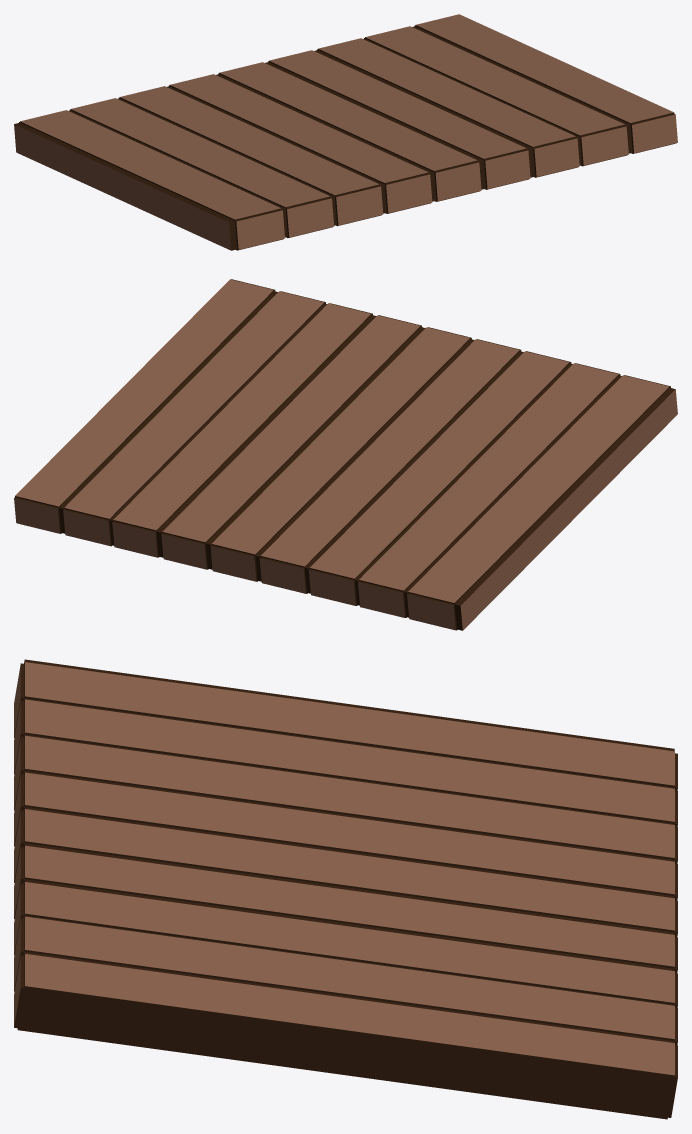
Rendered from WoodenRoof.fbx.
3 views of the same model, one above another, from view 1: azimuth 30°, elevation 25°; view 2: azimuth 150°, elevation 25°; view 3: azimuth 270°, elevation 25° (orthographic). The views are drawn at different scales.
Parts seen in each view (by area): view 1: pasted__pasted__polySurface55; view 2: pasted__pasted__polySurface55; view 3: pasted__pasted__polySurface55.
Part boxes in pixels (bbox=[...]): pasted__pasted__polySurface55: bbox=[14, 14, 677, 250]; pasted__pasted__polySurface55: bbox=[14, 279, 677, 630]; pasted__pasted__polySurface55: bbox=[14, 659, 677, 1119].
Size of the model in its own units: 178 by 33.76 by 152.
